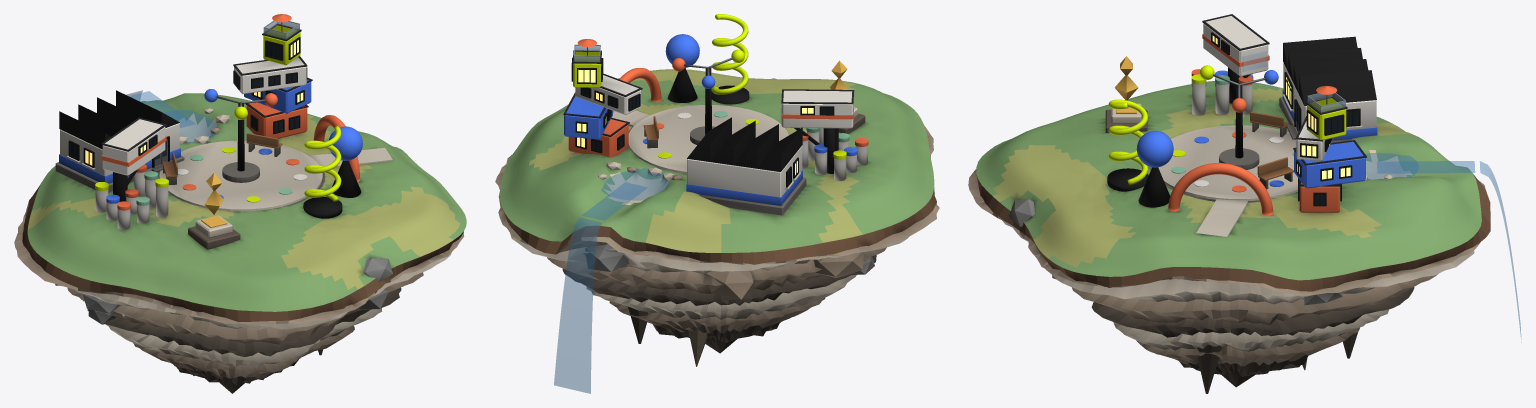
Rendered from playground.glb.
The picture shows the model from 3 angles, left to right: view 1: azimuth 30°, elevation 25°; view 2: azimuth 150°, elevation 25°; view 3: azimuth 270°, elevation 25°; orthographic projection. The views are drawn at different scales.
Visible parts, largest first — view 1: terrain, foundation, buildings, props, landmarks, water_pond0, water_channel0, anim_spin_kinetic, anim_bounce_6, anim_spin_monument_double, anim_bounce_0; view 2: terrain, foundation, buildings, waterfall_0, props, landmarks, water_pond0, water_channel0, anim_spin_kinetic, anim_bounce_2, anim_bounce_5; view 3: terrain, foundation, buildings, props, landmarks, water_channel0, water_pond0, anim_spin_kinetic, waterfall_0, anim_bounce_6, anim_bounce_7, anim_spin_monument_double.
Part boxes in pixels (left/top/right/bottom): terrain: left=27, top=93, right=466, bottom=311; foundation: left=14, top=182, right=464, bottom=393; buildings: left=55, top=25, right=361, bottom=249; props: left=66, top=14, right=312, bottom=202; landmarks: left=304, top=115, right=362, bottom=201; water_pond0: left=163, top=110, right=217, bottom=142; water_channel0: left=129, top=91, right=194, bottom=127; anim_spin_kinetic: left=204, top=89, right=277, bottom=119; anim_bounce_6: left=155, top=178, right=168, bottom=217; anim_spin_monument_double: left=204, top=173, right=223, bottom=214; anim_bounce_0: left=117, top=201, right=130, bottom=230; terrain: left=500, top=69, right=934, bottom=252; foundation: left=495, top=78, right=939, bottom=366; buildings: left=564, top=51, right=865, bottom=215; waterfall_0: left=554, top=217, right=601, bottom=393; props: left=563, top=39, right=854, bottom=189; landmarks: left=611, top=14, right=748, bottom=117; water_pond0: left=601, top=168, right=669, bottom=200; water_channel0: left=582, top=182, right=647, bottom=220; anim_spin_kinetic: left=672, top=49, right=744, bottom=88; anim_bounce_2: left=833, top=150, right=846, bottom=181; anim_bounce_5: left=814, top=144, right=827, bottom=175; terrain: left=976, top=81, right=1481, bottom=280; foundation: left=968, top=169, right=1490, bottom=393; buildings: left=1105, top=16, right=1377, bottom=212; props: left=1171, top=14, right=1392, bottom=206; landmarks: left=1108, top=99, right=1273, bottom=215; water_channel0: left=1377, top=161, right=1475, bottom=173; water_pond0: left=1365, top=152, right=1418, bottom=179; anim_spin_kinetic: left=1200, top=65, right=1278, bottom=112; waterfall_0: left=1479, top=161, right=1521, bottom=342; anim_bounce_6: left=1191, top=74, right=1206, bottom=115; anim_bounce_7: left=1215, top=75, right=1229, bottom=114; anim_spin_monument_double: left=1114, top=56, right=1138, bottom=100.
Bounding box in the file's own units: 14.29 × 11.45 × 16.45.
